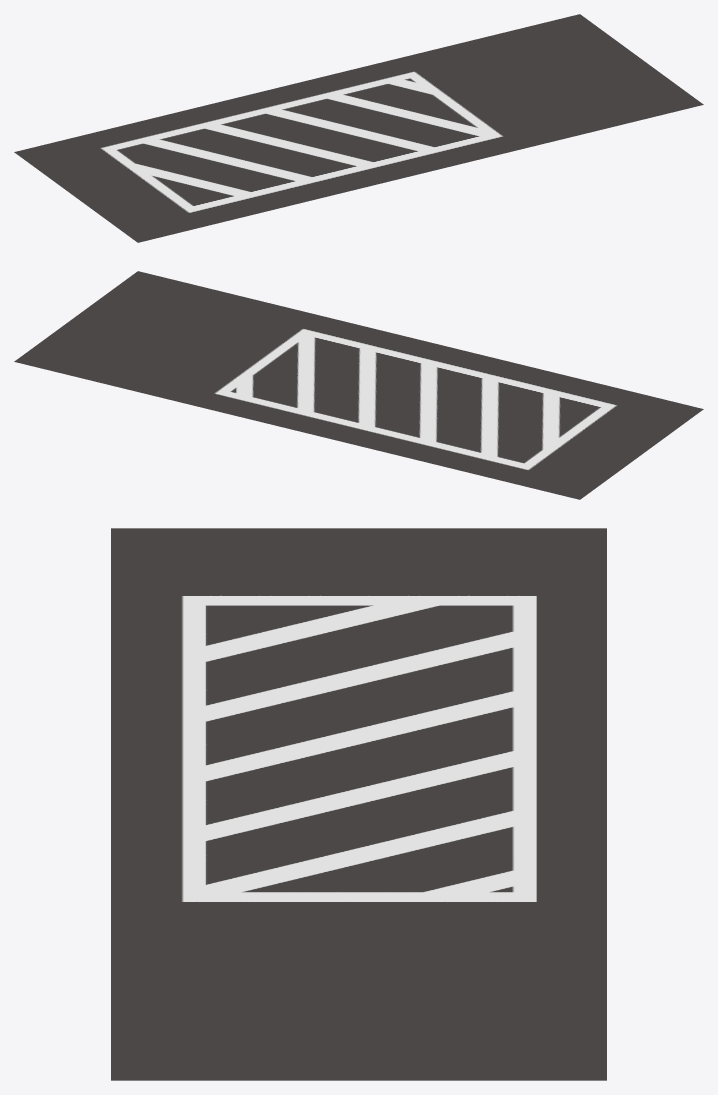
File: parkinson.fbx
The picture shows the model from 3 angles, top to bottom: view 1: azimuth 30°, elevation 25°; view 2: azimuth 150°, elevation 25°; view 3: azimuth 270°, elevation 25°; orthographic projection. The views are drawn at different scales.
Parts seen in each view (by area): view 1: pPlane1; view 2: pPlane1; view 3: pPlane1.
Boxes of the visible parts, bbox=[...] form: pPlane1: bbox=[14, 14, 703, 242]; pPlane1: bbox=[14, 271, 703, 499]; pPlane1: bbox=[111, 528, 606, 1080].
Size of the model in its own units: 2523 by 0 by 957.
